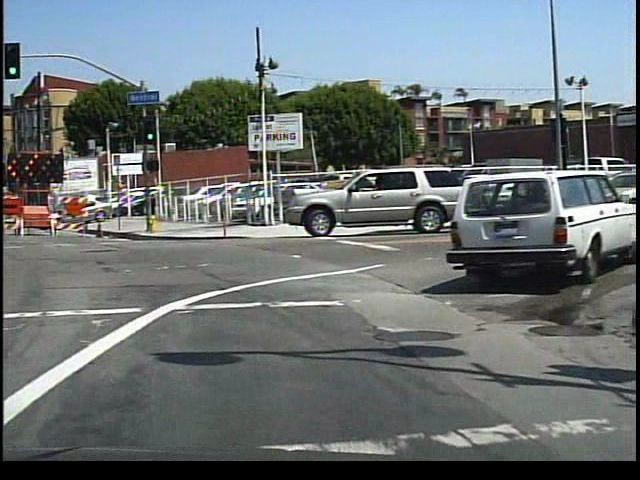person: (564, 161, 583, 205)
